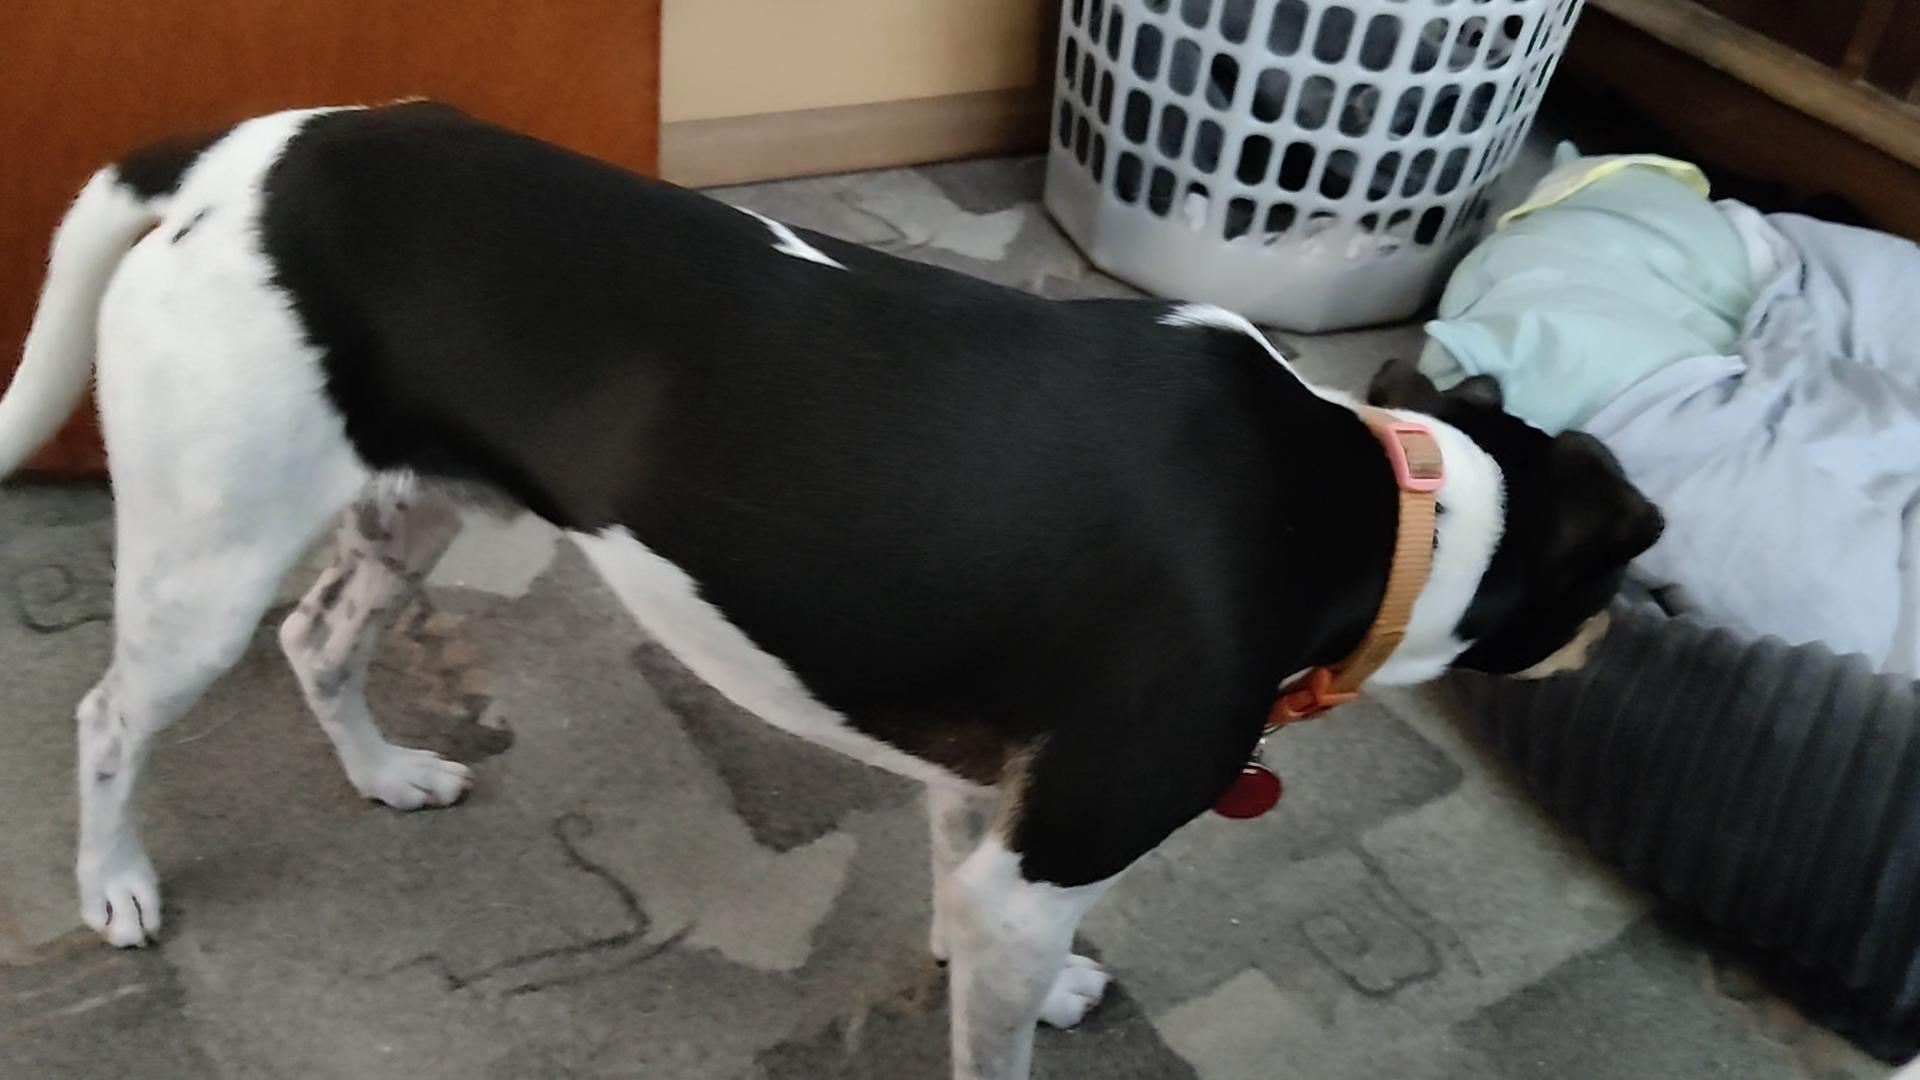Dog: (0, 88, 1665, 1079)
